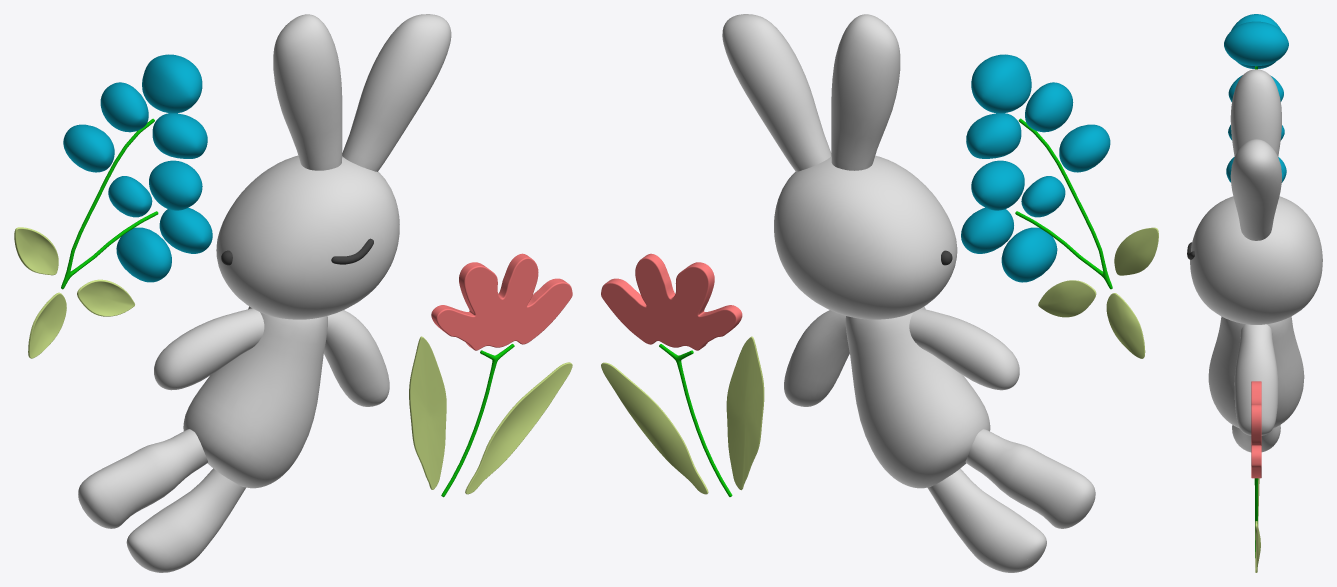
3 views of the same model, side by side, from view 1: azimuth 30°, elevation 25°; view 2: azimuth 150°, elevation 25°; view 3: azimuth 270°, elevation 25° (orthographic). The views are drawn at different scales.
Visible parts, largest first — view 1: model15; view 2: model15; view 3: model15.
Part boxes in pixels (x1,y1,x2,y2): model15: (14,14,572,572); model15: (601,14,1158,572); model15: (1187,14,1322,572).
Size of the model in its own units: 0.1563 by 0.1387 by 0.0392.
